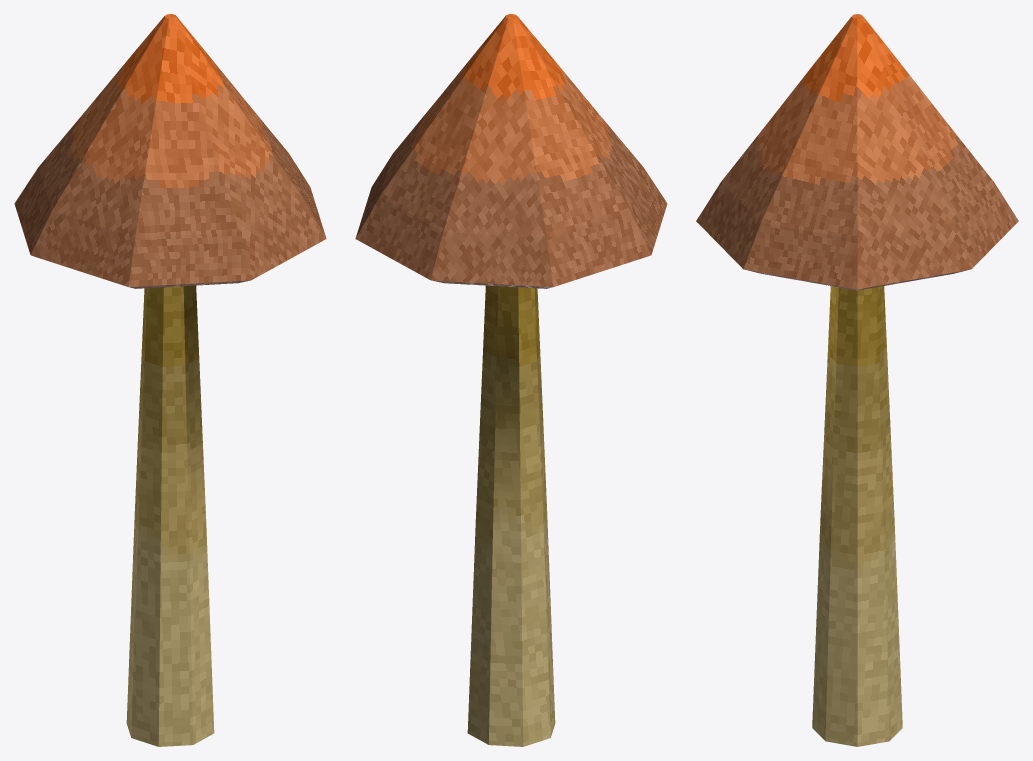
Rendered from Mushroom Brown.fbx.
The picture shows the model from 3 angles, left to right: view 1: azimuth 30°, elevation 25°; view 2: azimuth 150°, elevation 25°; view 3: azimuth 270°, elevation 25°; orthographic projection.
Visible parts, largest first — view 1: pCylinder2; view 2: pCylinder2; view 3: pCylinder2.
Part boxes in pixels (x1,y1,x2,y2): pCylinder2: (14,14,326,746); pCylinder2: (355,14,667,746); pCylinder2: (696,14,1018,746).
Bounding box in the file's own units: 0.431 × 1.05 × 0.431.
